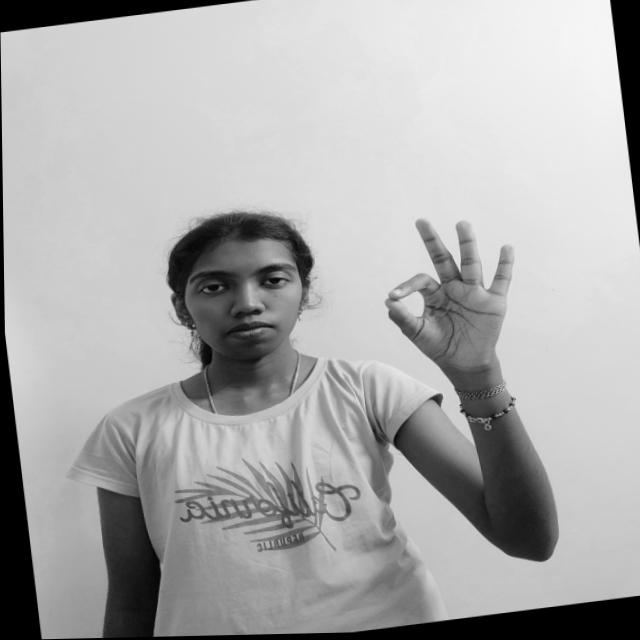Superb: (364, 200, 537, 395)
